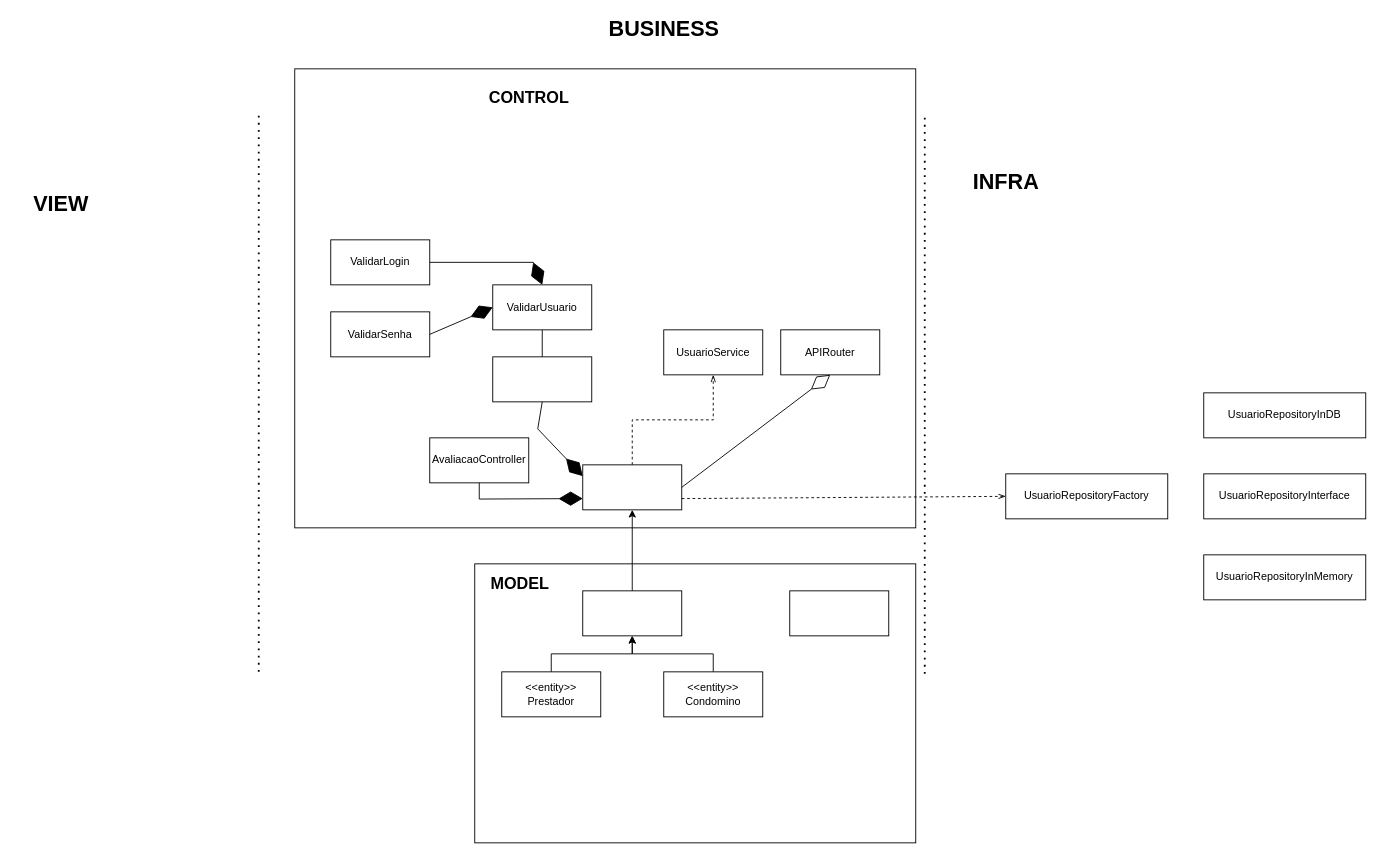
Image size: 1382x859. Some labels were removed from this diagram. The box of each missing label's shape, as (x1, y1, x2, y2) in pixels:
<<entity>> Avaliacao: (789, 590, 889, 636)
<<entity>> Usuario: (582, 590, 682, 636)
Facade: (582, 464, 682, 510)
UsuarioController: (492, 356, 592, 402)
